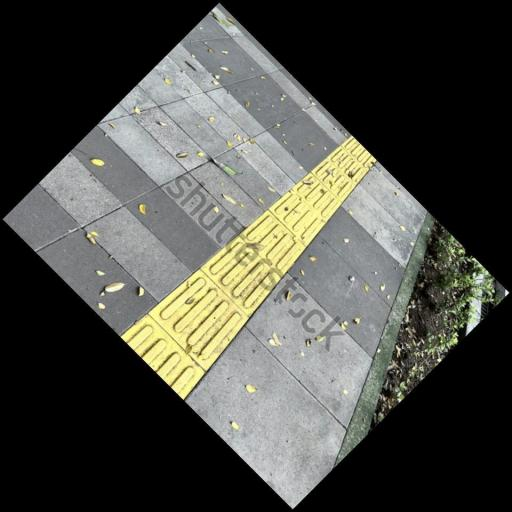line: (146, 267, 251, 368), (206, 232, 283, 317), (241, 211, 309, 277), (269, 186, 324, 246)
